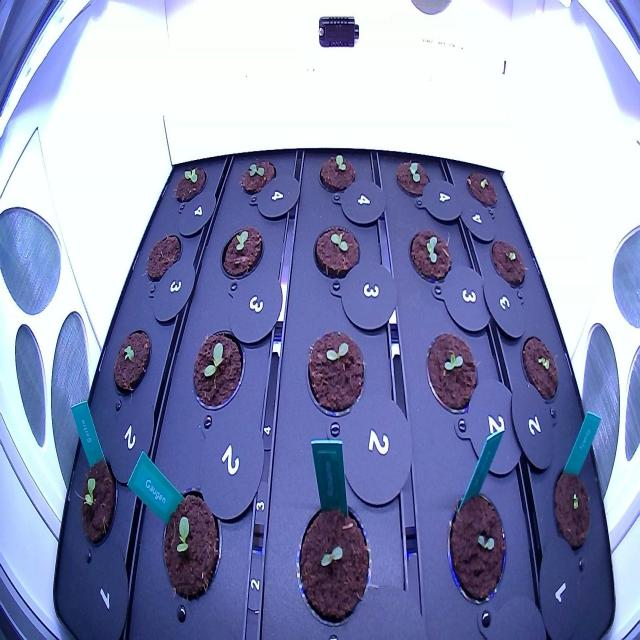germination: (294, 494, 374, 630), (441, 481, 514, 614), (158, 478, 228, 604), (186, 315, 251, 417), (303, 326, 368, 422), (422, 324, 484, 419), (548, 453, 598, 555), (76, 450, 120, 551), (515, 327, 561, 410), (309, 219, 363, 288), (402, 223, 456, 286), (109, 324, 153, 401), (218, 220, 266, 288), (315, 143, 361, 201), (484, 232, 528, 292), (391, 148, 436, 206), (172, 154, 209, 212), (236, 151, 276, 202), (463, 162, 502, 211)
pod: (141, 222, 188, 295)
